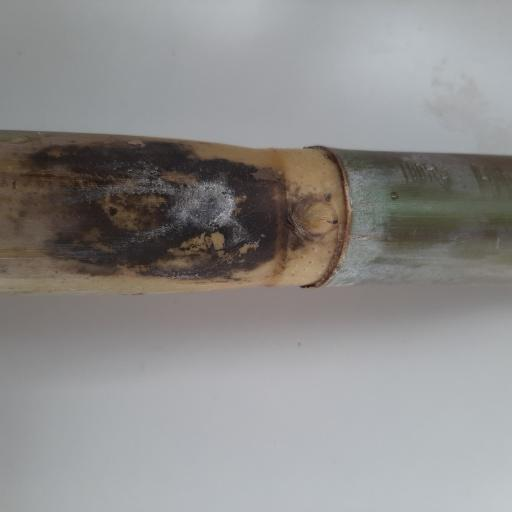Bud: (293, 194, 340, 239)
